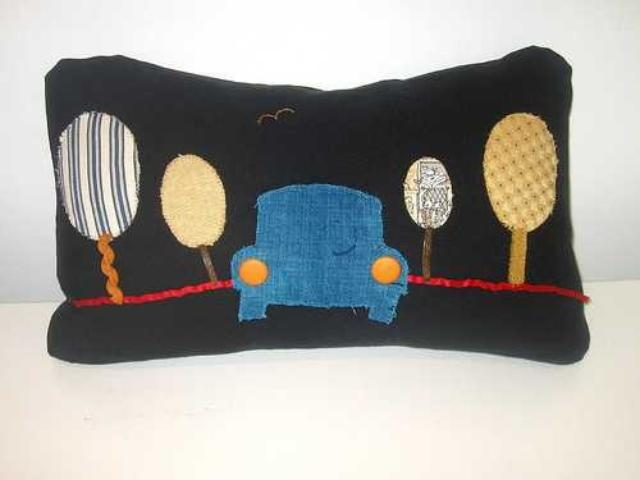pillow: (42, 44, 590, 366)
